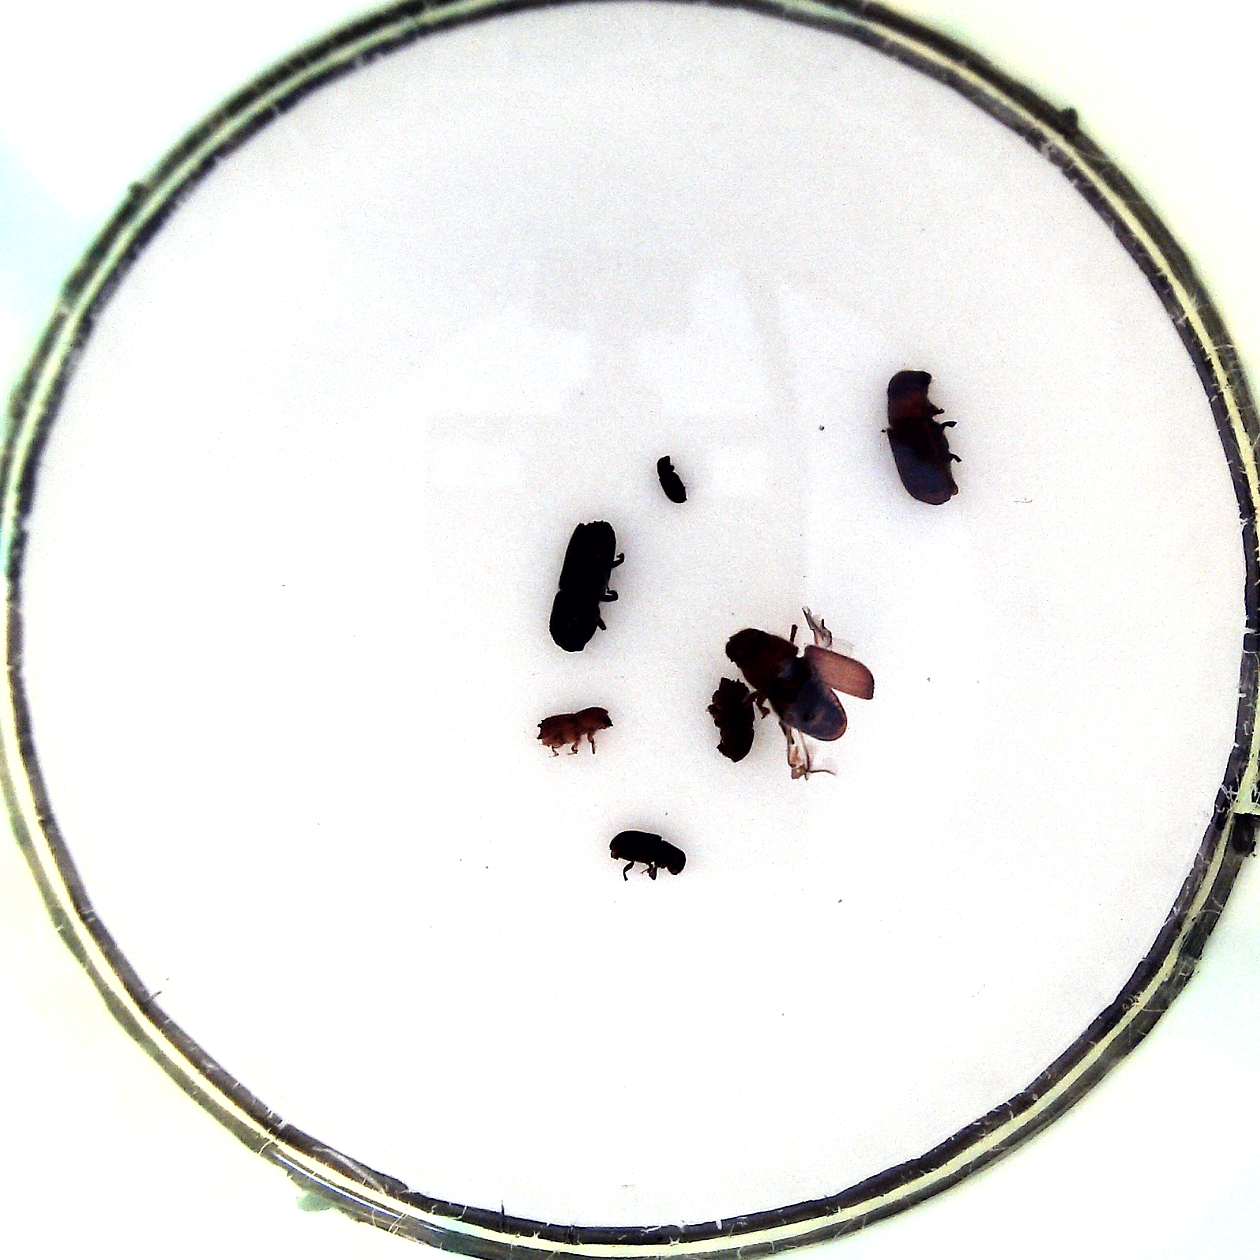Boerner: (542, 513, 628, 653)
Leconte: (742, 603, 877, 780), (877, 372, 972, 507)
Linnaeus: (706, 670, 757, 770)
acuminatus: (526, 698, 618, 766)
armandi: (598, 828, 696, 886)
coleoptera: (652, 452, 690, 503)
